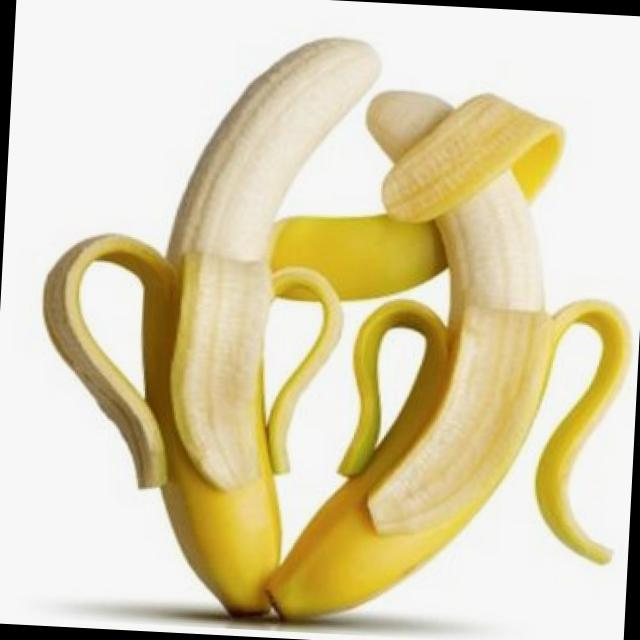banana: (126, 18, 404, 620), (270, 86, 560, 639)
